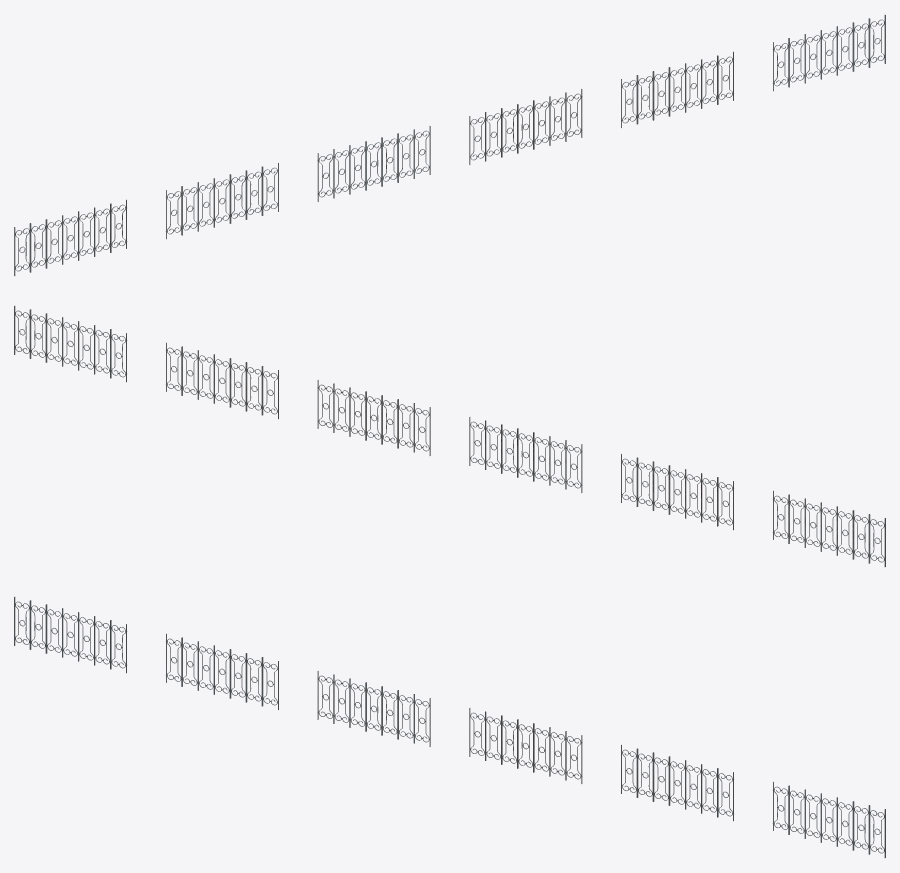
The model's file is Fence_F2 (1).fbx.
3 views of the same model, one above another, from view 1: azimuth 30°, elevation 25°; view 2: azimuth 150°, elevation 25°; view 3: azimuth 330°, elevation 25° (orthographic).
Parts seen in each view (by area): view 1: Fence_F2 (1); view 2: Fence_F2 (1); view 3: Fence_F2 (1).
Boxes of the visible parts, box(x1,y1,x2,y2) form: Fence_F2 (1): box(14, 15, 885, 275); Fence_F2 (1): box(14, 306, 885, 566); Fence_F2 (1): box(14, 597, 885, 857).
Size of the model in its own units: 22.97 by 0.0408 by 1.24.
1 material, 1 textured.
